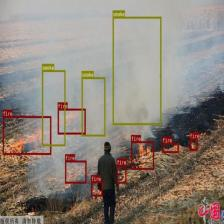fire: (2, 116, 51, 155), (57, 109, 86, 134), (131, 141, 154, 170), (65, 160, 86, 184), (116, 165, 127, 183), (162, 142, 179, 153), (91, 181, 102, 196), (190, 138, 198, 151)
smoke: (113, 16, 161, 125), (42, 70, 65, 146), (82, 77, 106, 136)
